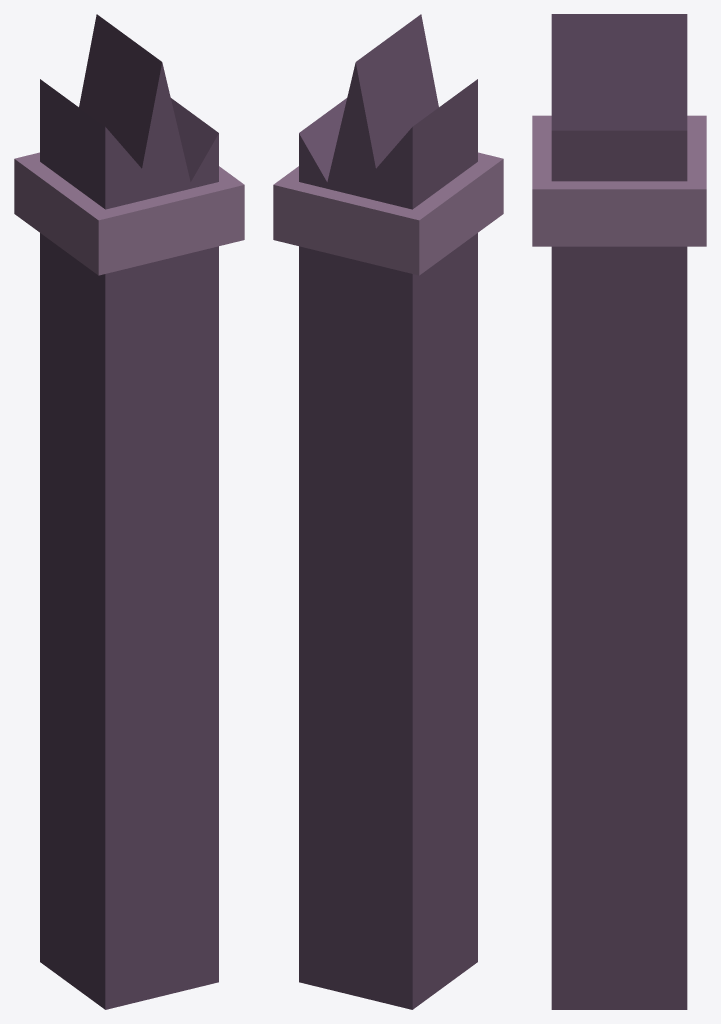
File: TW_WOOD_END_BROKEN_B_LOD0.glb
The picture shows the model from 3 angles, left to right: view 1: azimuth 30°, elevation 25°; view 2: azimuth 150°, elevation 25°; view 3: azimuth 270°, elevation 25°; orthographic projection. The views are drawn at different scales.
Parts seen in each view (by area): view 1: TW_WOOD_END_BROKEN_B_LOD0; view 2: TW_WOOD_END_BROKEN_B_LOD0; view 3: TW_WOOD_END_BROKEN_B_LOD0.
Boxes of the visible parts, x1,y1,x2,y2 form: TW_WOOD_END_BROKEN_B_LOD0: (14, 14, 244, 1009); TW_WOOD_END_BROKEN_B_LOD0: (273, 14, 503, 1009); TW_WOOD_END_BROKEN_B_LOD0: (532, 14, 706, 1009).
Size of the model in its own units: 0.18 by 1.1 by 0.18.
1 material, 1 textured.
